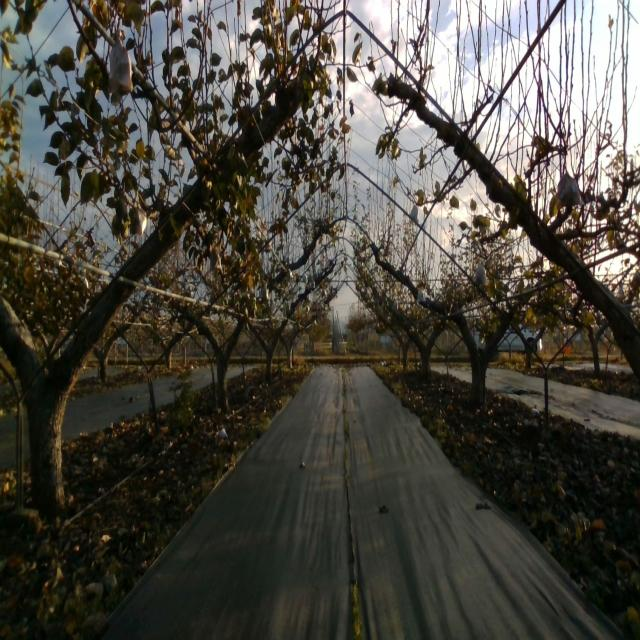pearbags: (107, 27, 134, 94), (558, 165, 580, 207), (130, 200, 148, 237), (474, 264, 488, 286)
